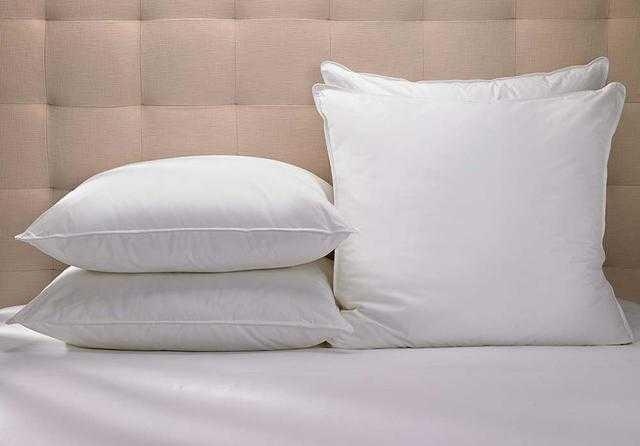pillow: (311, 73, 635, 348), (13, 154, 355, 274), (4, 256, 352, 352)
